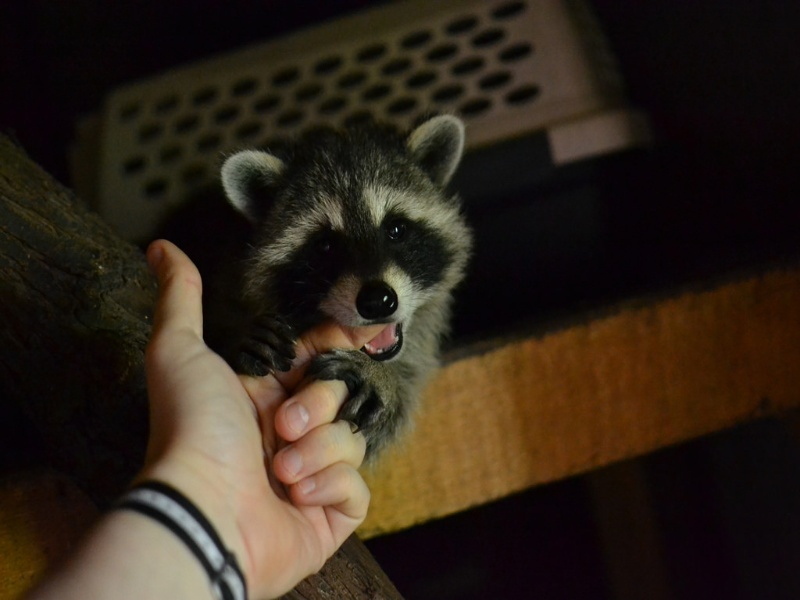raccoon: (161, 104, 472, 430)
